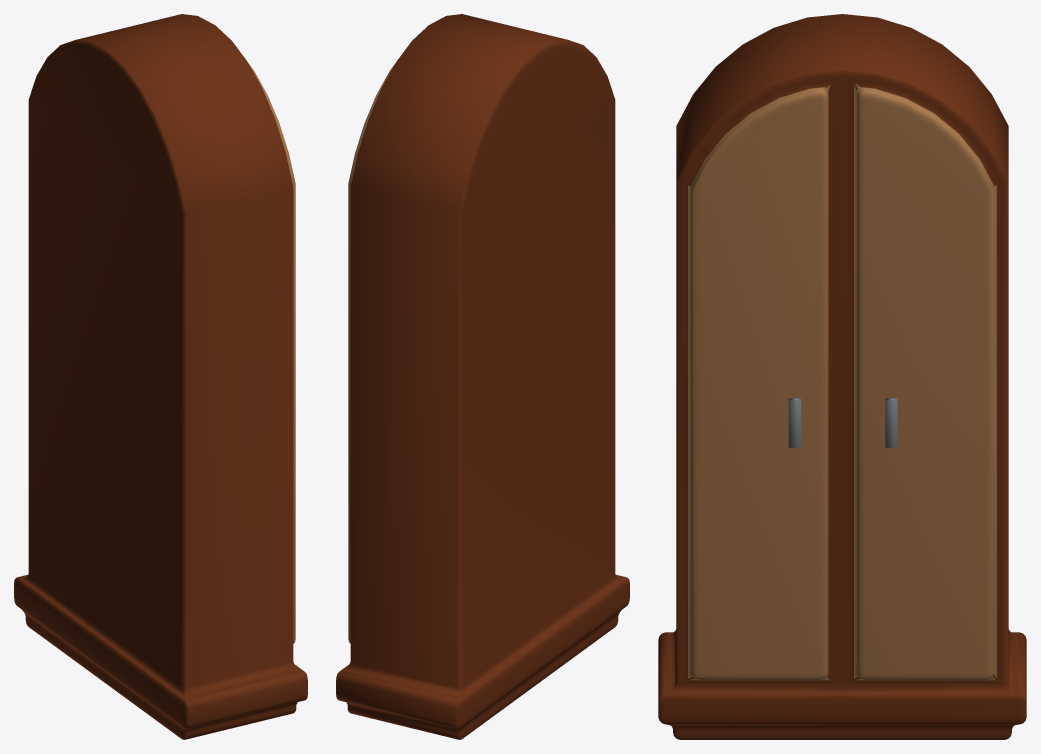
File: Closet2.fbx
The picture shows the model from 3 angles, left to right: view 1: azimuth 30°, elevation 25°; view 2: azimuth 150°, elevation 25°; view 3: azimuth 270°, elevation 25°; orthographic projection. The views are drawn at different scales.
Visible parts, largest first — view 1: Cylinder; view 2: Cylinder; view 3: Cylinder, Cube.035, Cube.034.
Boxes of the visible parts, bbox=[...] form: Cylinder: bbox=[14, 14, 307, 739]; Cylinder: bbox=[336, 14, 629, 739]; Cylinder: bbox=[658, 14, 1026, 739]; Cube.035: bbox=[788, 398, 801, 447]; Cube.034: bbox=[885, 398, 897, 447].
Size of the model in its own units: 116 by 528 by 263.
